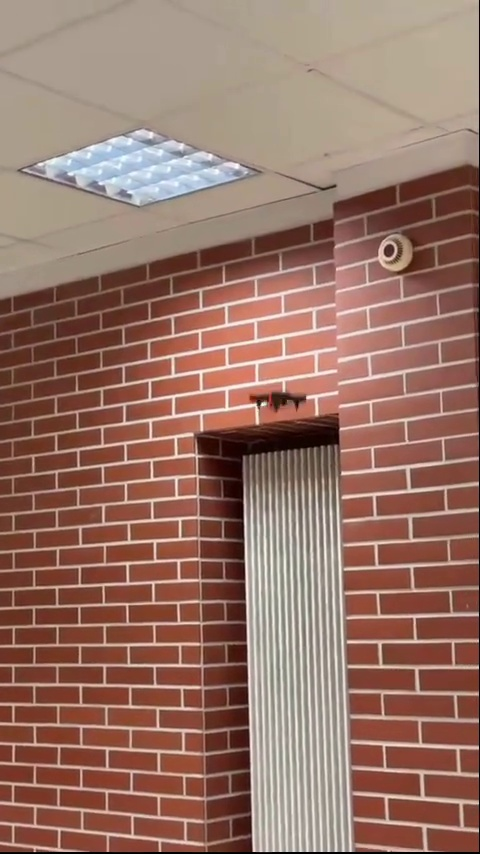drone: (247, 388, 309, 411)
